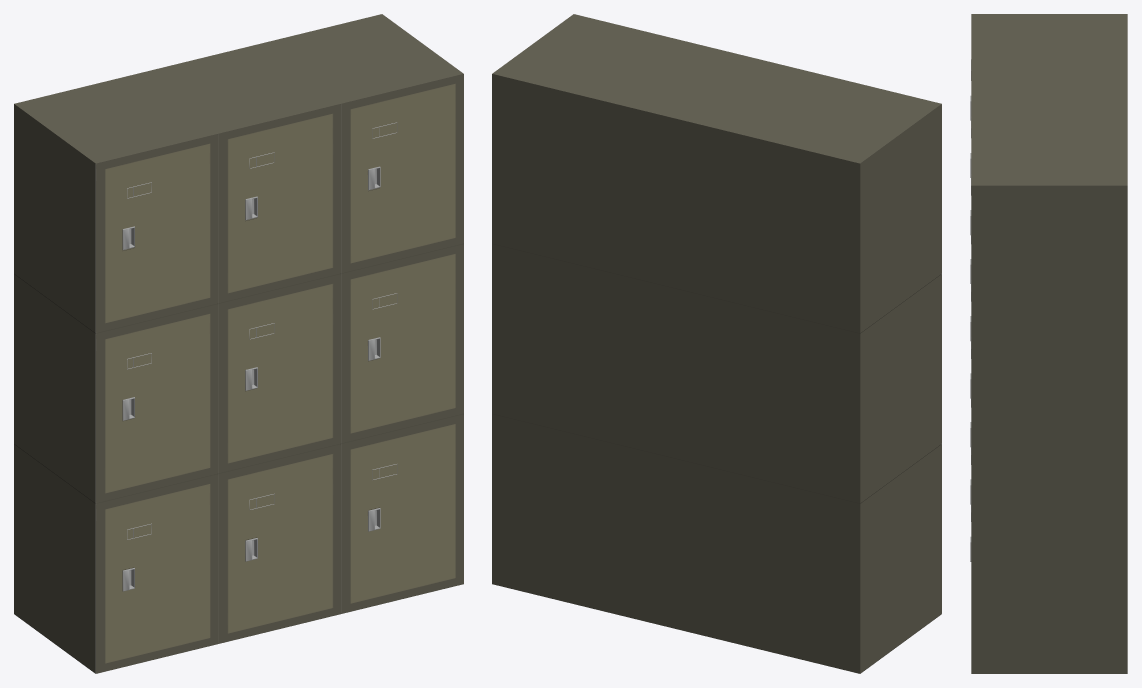
Rendered from cabinet.fbx.
The picture shows the model from 3 angles, left to right: view 1: azimuth 30°, elevation 25°; view 2: azimuth 150°, elevation 25°; view 3: azimuth 270°, elevation 25°; orthographic projection. The views are drawn at different scales.
Visible parts, largest first — view 1: body, handle, nametag; view 2: body; view 3: body, handle.
Boxes of the visible parts, x1,y1,x2,y2 form: body: [14, 14, 463, 673]; handle: [122, 166, 380, 591]; nametag: [127, 122, 397, 539]; body: [492, 14, 941, 673]; body: [971, 14, 1127, 673]; handle: [970, 95, 971, 561].
Size of the model in its own units: 720 by 954 by 279.
